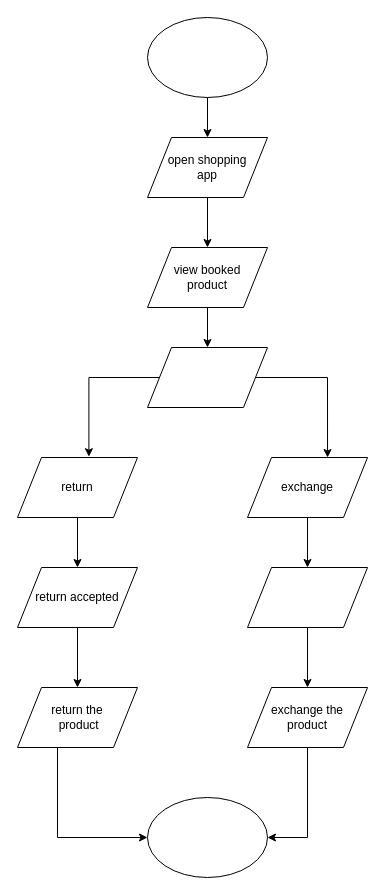
This 385x895 diagram has some shape labels left out. Here are the shapes that lost their labels. From the top down, the centre of each, then its label:
the point at 207,57: start
the point at 207,377: select the product
the point at 307,597: exchange accepted
the point at 207,837: stop
